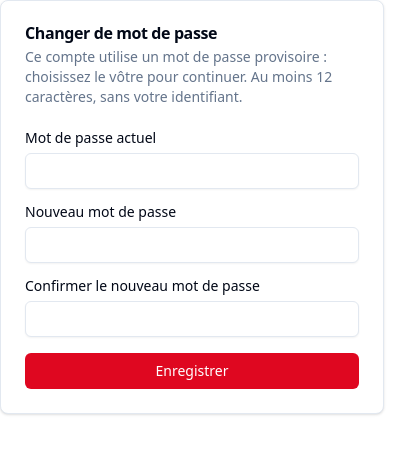
Scenario: ChangePasswordForm › refuse deux saisies différentes
The width and height of the screenshot is (401, 456).
In the password field labelled "Mot de passe actuel": (192, 171) [25,153,359,189], type "ancien-provisoire"
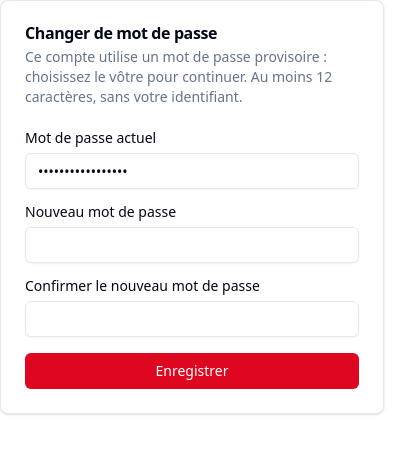
In the password field labelled "Nouveau mot de passe": (192, 245) [25,227,359,263], type "un-long-mot-de-passe"
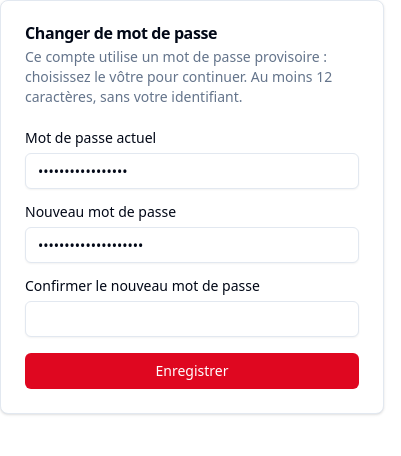
In the password field labelled "Confirmer le nouveau mot de passe": (192, 319) [25,301,359,337], type "un-autre-mot-de-passe"
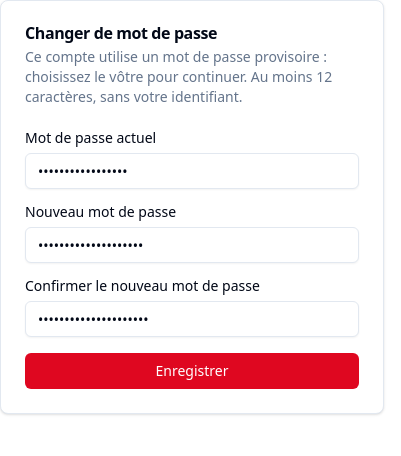
Click the button "Enregistrer": (192, 371) [25,353,359,389]
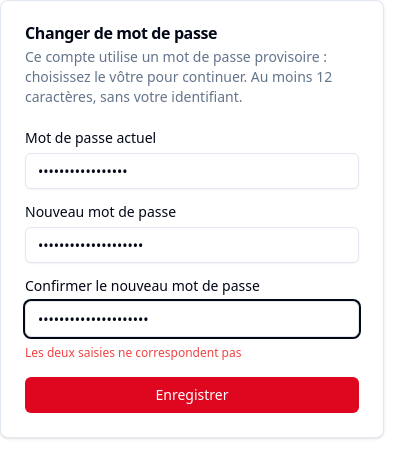
Result: the text "Les deux saisies ne correspondent pas" is shown at [25,344,242,361]
